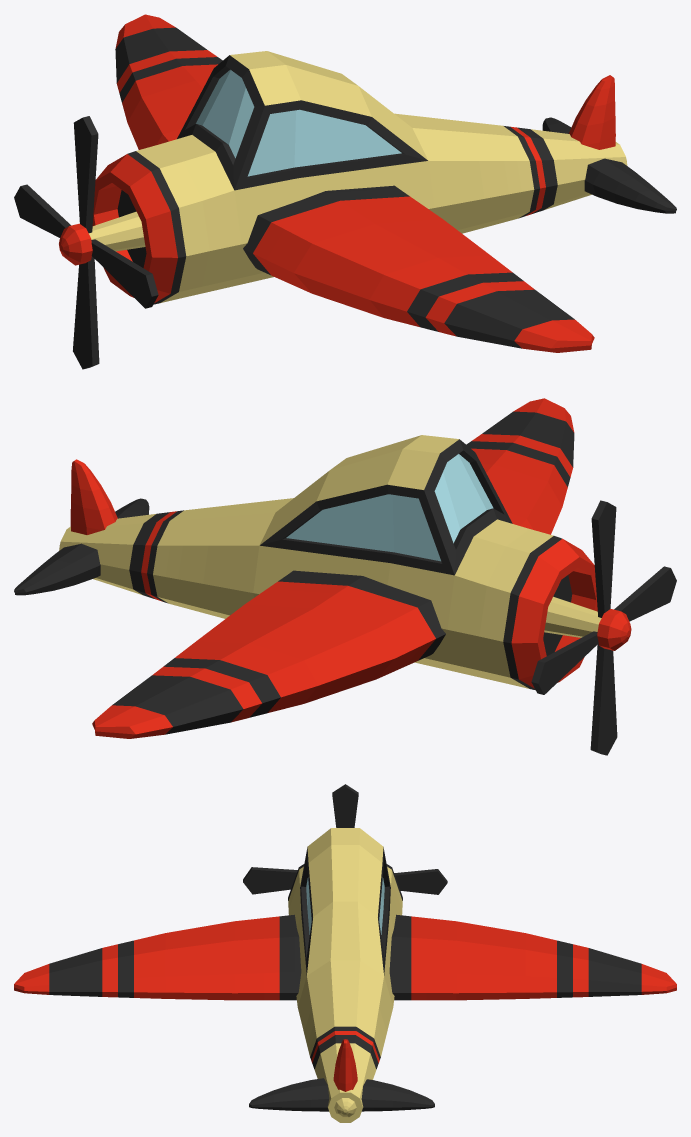
3 renders of one model, top to bottom at view 1: azimuth 30°, elevation 25°; view 2: azimuth 150°, elevation 25°; view 3: azimuth 270°, elevation 25°, orthographic. The views are drawn at different scales.
Parts seen in each view (by area): view 1: Plane; view 2: Plane; view 3: Plane.
Boxes of the visible parts, <box> form: Plane: <box>14,14,676,369</box>; Plane: <box>14,398,676,755</box>; Plane: <box>14,784,676,1122</box>.
Bounding box in the file's own units: 956 × 436 × 1309.
